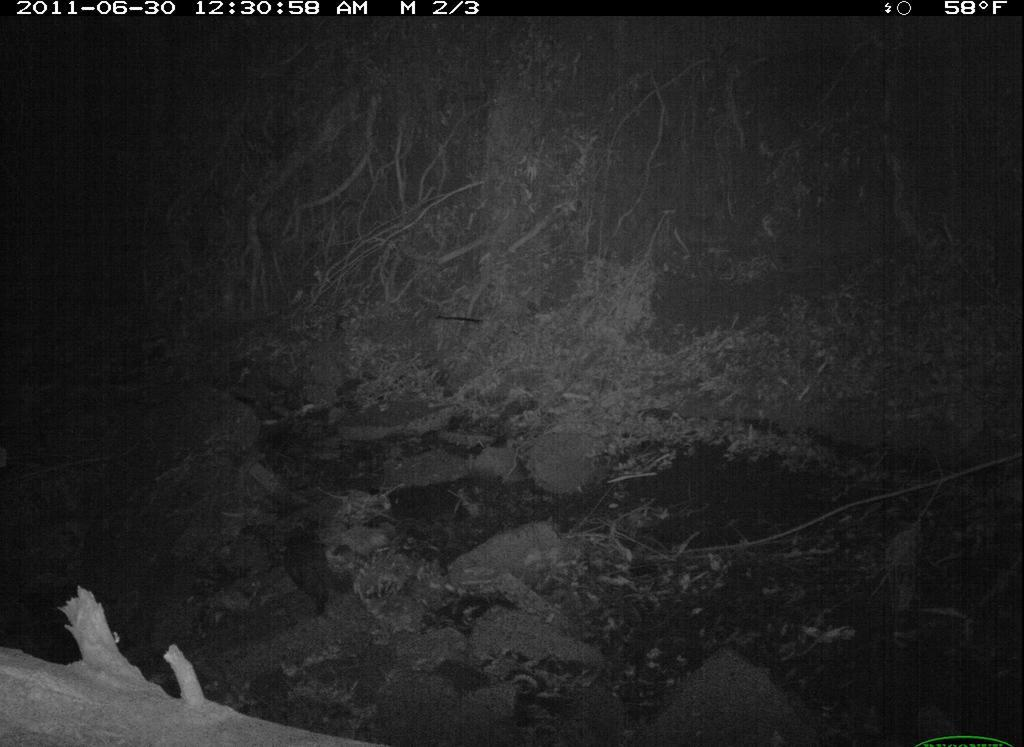cat: (284, 521, 337, 619)
